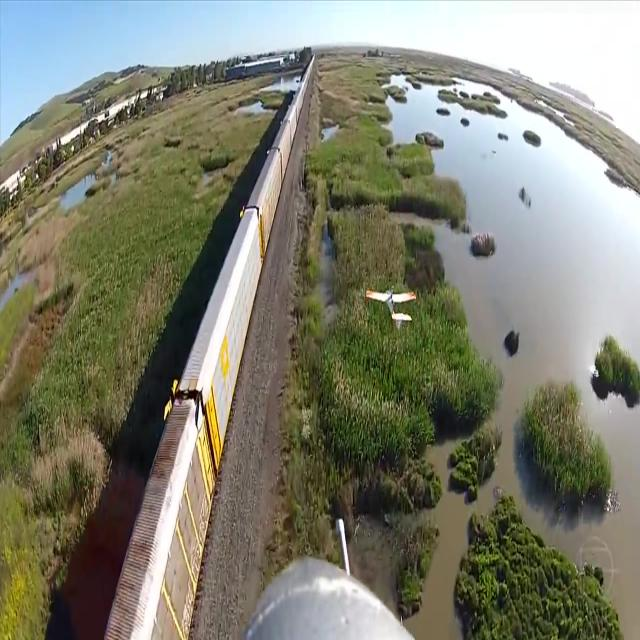iha: (358, 285, 411, 330)
